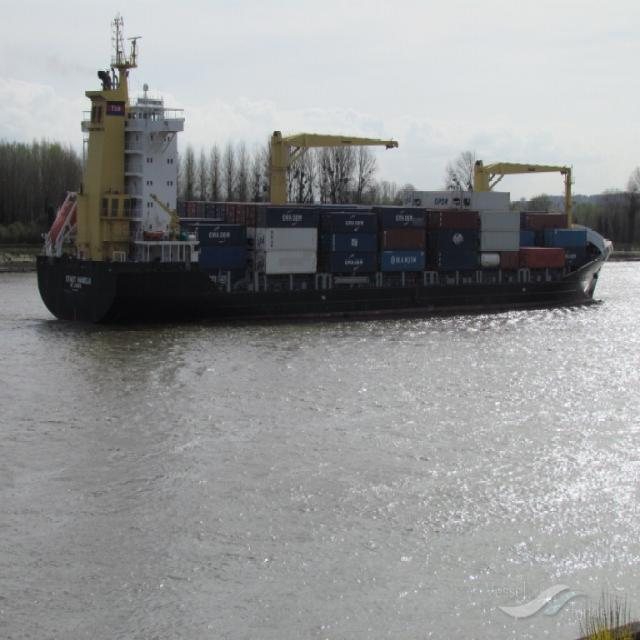Container Ship: (42, 26, 616, 315)
